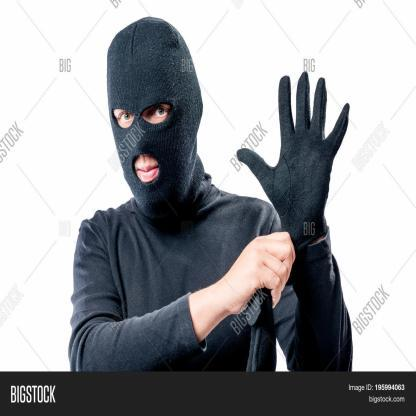criminal: (68, 16, 354, 371)
